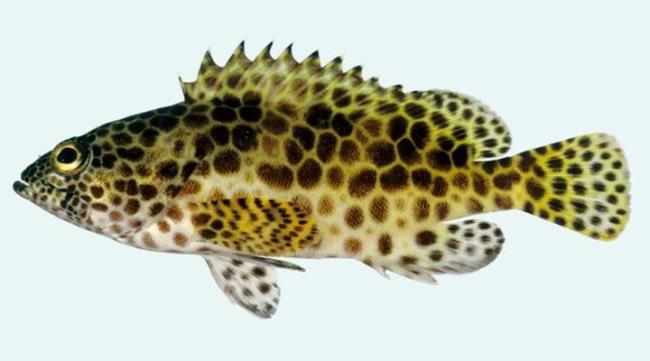fish: (12, 38, 632, 321)
